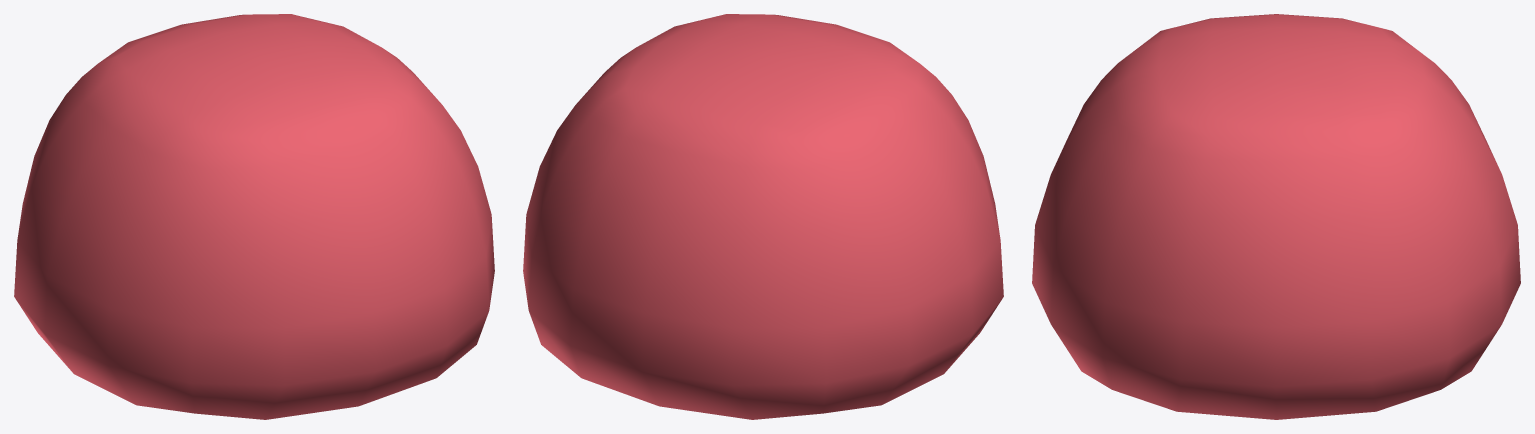
Rendered from slime.fbx.
3 views of the same model, side by side, from view 1: azimuth 30°, elevation 25°; view 2: azimuth 150°, elevation 25°; view 3: azimuth 270°, elevation 25° (orthographic).
Parts seen in each view (by area): view 1: slime; view 2: slime; view 3: slime.
Boxes of the visible parts, <box> form: slime: <box>14,14,494,419</box>; slime: <box>523,14,1003,419</box>; slime: <box>1032,14,1520,419</box>.
Bounding box in the file's own units: 339 × 232 × 339.
